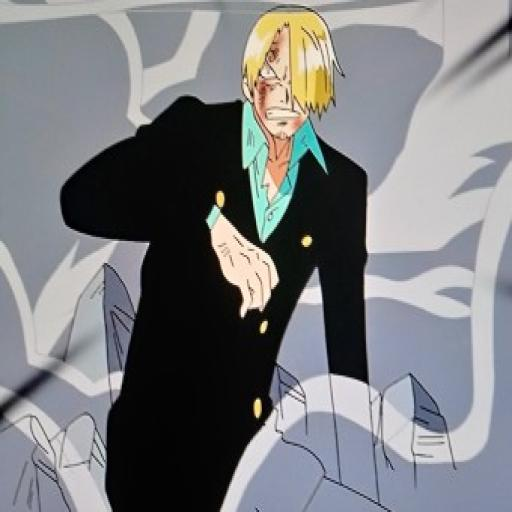sanji: (224, 4, 351, 145)
